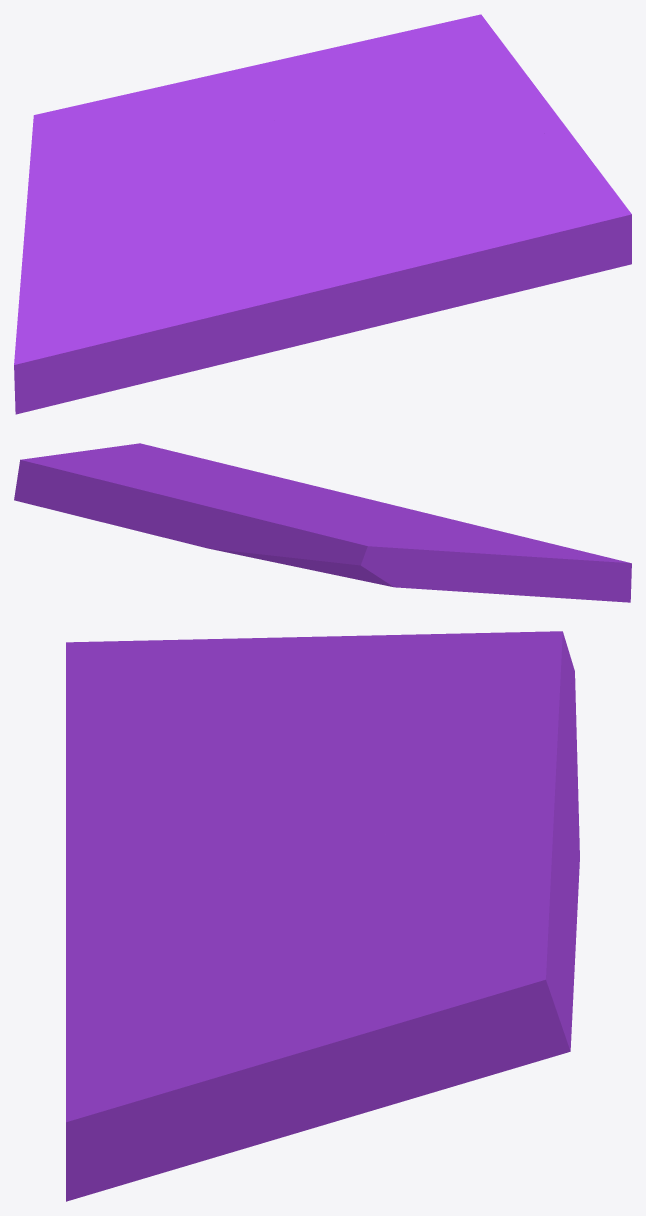
The model's file is Window_155_2_chunks.fbx.
The picture shows the model from 3 angles, top to bottom: view 1: azimuth 30°, elevation 25°; view 2: azimuth 150°, elevation 25°; view 3: azimuth 270°, elevation 25°; orthographic projection. The views are drawn at different scales.
Parts seen in each view (by area): view 1: Window_155_2_4, Window_155_2_6, Window_155_2_8, Window_155_2_18, Window_155_2_9, Window_155_2_2, Window_155_2_20, Window_155_2_21, Window_155_2_3, Window_155_2_0, Window_155_2_12, Window_155_2_16 (+5 smaller); view 2: Window_155_2_6, Window_155_2_8, Window_155_2_12, Window_155_2_0, Window_155_2_13, Window_155_2_4, Window_155_2_9, Window_155_2_2, Window_155_2_3, Window_155_2_20, Window_155_2_18, Window_155_2_21 (+3 smaller); view 3: Window_155_2_8, Window_155_2_6, Window_155_2_20, Window_155_2_4, Window_155_2_9, Window_155_2_2, Window_155_2_18, Window_155_2_3, Window_155_2_0, Window_155_2_12, Window_155_2_21, Window_155_2_7 (+3 smaller).
Boxes of the visible parts, left/top/right/bottom form: Window_155_2_4: left=187, top=196, right=410, bottom=361; Window_155_2_6: left=14, top=215, right=191, bottom=405; Window_155_2_8: left=303, top=14, right=568, bottom=144; Window_155_2_18: left=425, top=192, right=631, bottom=306; Window_155_2_9: left=272, top=79, right=424, bottom=248; Window_155_2_2: left=70, top=140, right=279, bottom=233; Window_155_2_20: left=413, top=131, right=615, bottom=199; Window_155_2_21: left=353, top=162, right=459, bottom=317; Window_155_2_3: left=48, top=96, right=269, bottom=157; Window_155_2_0: left=23, top=112, right=105, bottom=243; Window_155_2_12: left=160, top=50, right=321, bottom=109; Window_155_2_16: left=105, top=325, right=233, bottom=392; Window_155_2_6: left=398, top=524, right=631, bottom=600; Window_155_2_8: left=14, top=450, right=183, bottom=523; Window_155_2_12: left=110, top=490, right=272, bottom=559; Window_155_2_0: left=346, top=535, right=502, bottom=589; Window_155_2_13: left=262, top=516, right=380, bottom=584; Window_155_2_4: left=312, top=491, right=491, bottom=529; Window_155_2_9: left=183, top=477, right=327, bottom=503; Window_155_2_2: left=265, top=505, right=465, bottom=545; Window_155_2_3: left=256, top=504, right=370, bottom=558; Window_155_2_20: left=90, top=445, right=219, bottom=479; Window_155_2_18: left=127, top=443, right=297, bottom=481; Window_155_2_21: left=207, top=473, right=335, bottom=495; Window_155_2_8: left=266, top=843, right=575, bottom=1134; Window_155_2_6: left=66, top=637, right=307, bottom=777; Window_155_2_20: left=118, top=941, right=308, bottom=1183; Window_155_2_4: left=66, top=770, right=273, bottom=930; Window_155_2_9: left=135, top=824, right=502, bottom=948; Window_155_2_2: left=286, top=673, right=441, bottom=836; Window_155_2_18: left=66, top=967, right=180, bottom=1201; Window_155_2_3: left=396, top=642, right=572, bottom=822; Window_155_2_0: left=304, top=631, right=575, bottom=693; Window_155_2_12: left=472, top=730, right=579, bottom=955; Window_155_2_21: left=66, top=901, right=279, bottom=982; Window_155_2_7: left=141, top=820, right=426, bottom=898.
Size of the model in its own units: 1299 by 287 by 588.
